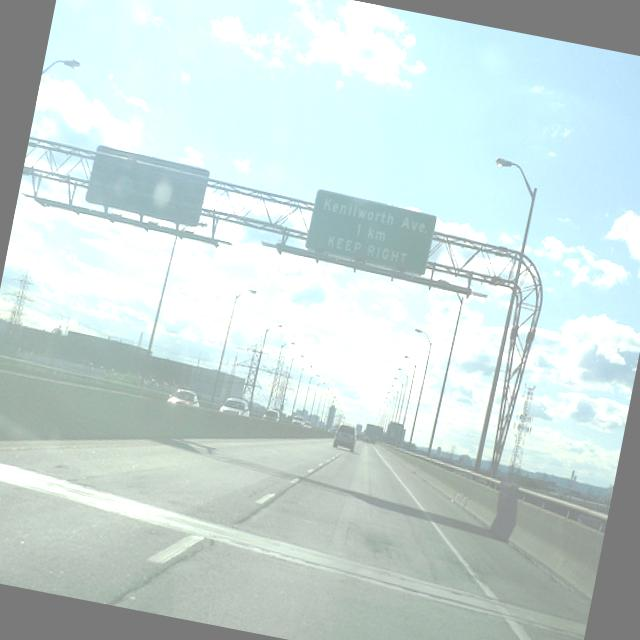Vehicle: (332, 420, 358, 453), (166, 385, 203, 408), (218, 395, 253, 418), (262, 408, 281, 422), (291, 416, 306, 428), (327, 426, 338, 438), (302, 420, 312, 430), (363, 436, 370, 443)
